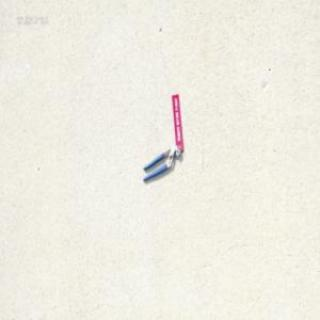LuggageTagtrack_idkeyframe: (171, 92, 183, 150)
Pliertrack_idkeyframe: (142, 142, 180, 180)
